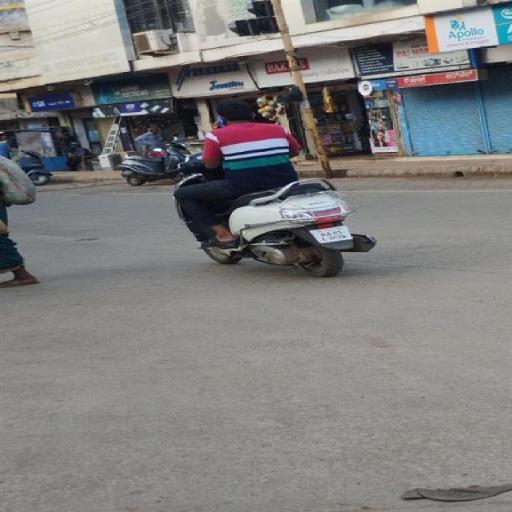using mobile: (208, 114, 226, 128)
